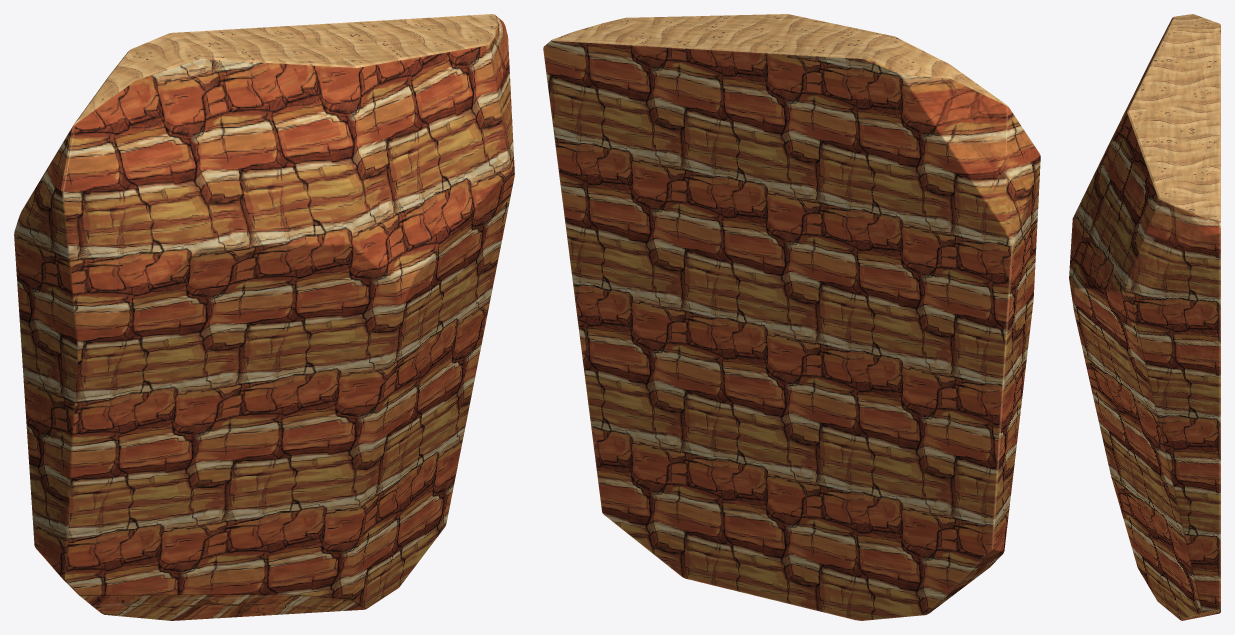
The model's file is v4_cliff_w_05.glb.
3 views of the same model, side by side, from view 1: azimuth 30°, elevation 25°; view 2: azimuth 150°, elevation 25°; view 3: azimuth 270°, elevation 25° (orthographic). The views are drawn at different scales.
Parts seen in each view (by area): view 1: v4_cliff_w_05; view 2: v4_cliff_w_05; view 3: v4_cliff_w_05.
Boxes of the visible parts, x1=… form: v4_cliff_w_05: x1=14, y1=14, x2=514, y2=620; v4_cliff_w_05: x1=543, y1=14, x2=1040, y2=620; v4_cliff_w_05: x1=1069, y1=14, x2=1220, y2=620.
Size of the model in its own units: 6.96 by 7.99 by 2.19.
Materials: 1 (1 with a texture image).
